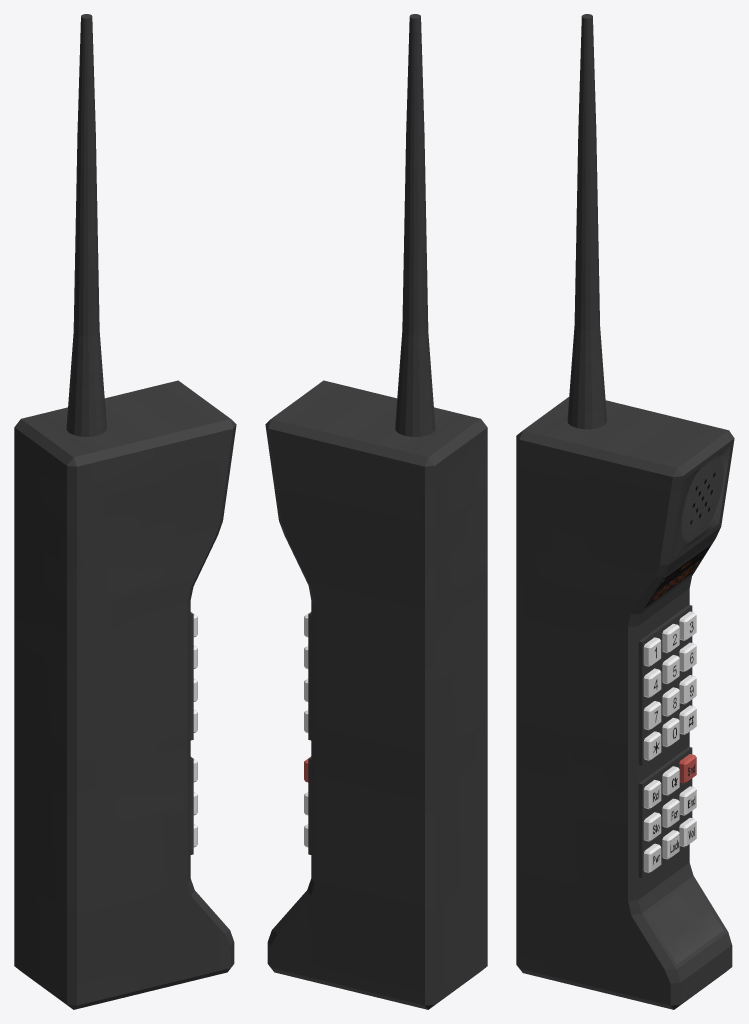
The model's file is old_phone.fbx.
3 views of the same model, side by side, from view 1: azimuth 30°, elevation 25°; view 2: azimuth 150°, elevation 25°; view 3: azimuth 330°, elevation 25° (orthographic).
Visible parts, largest first — view 1: old phone; view 2: old phone; view 3: old phone.
Boxes of the visible parts, bbox=[...] form: old phone: bbox=[14, 14, 236, 1009]; old phone: bbox=[265, 14, 487, 1009]; old phone: bbox=[516, 14, 734, 1009].
Bounding box in the file's own units: 55.38 × 301 × 33.68.
